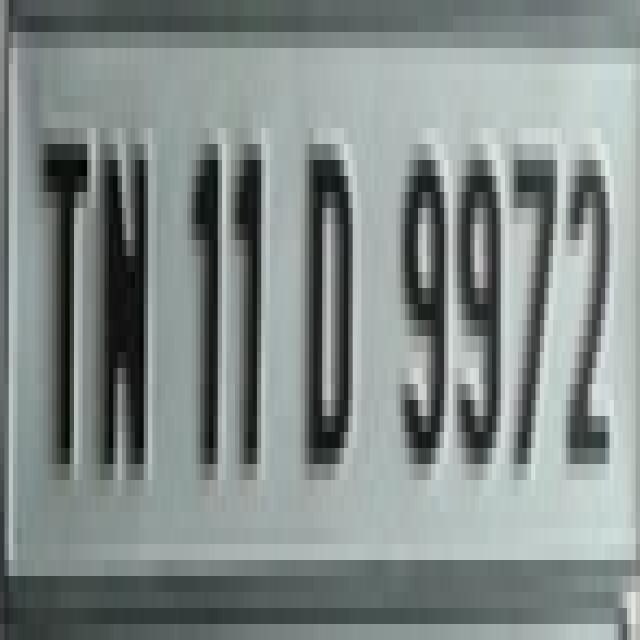1: (226, 116, 272, 502), (188, 122, 224, 480)
7: (510, 106, 560, 488)
9: (391, 123, 448, 503), (451, 116, 507, 484)
D: (300, 120, 360, 490)
N: (98, 106, 156, 503)
T: (36, 110, 98, 510)
